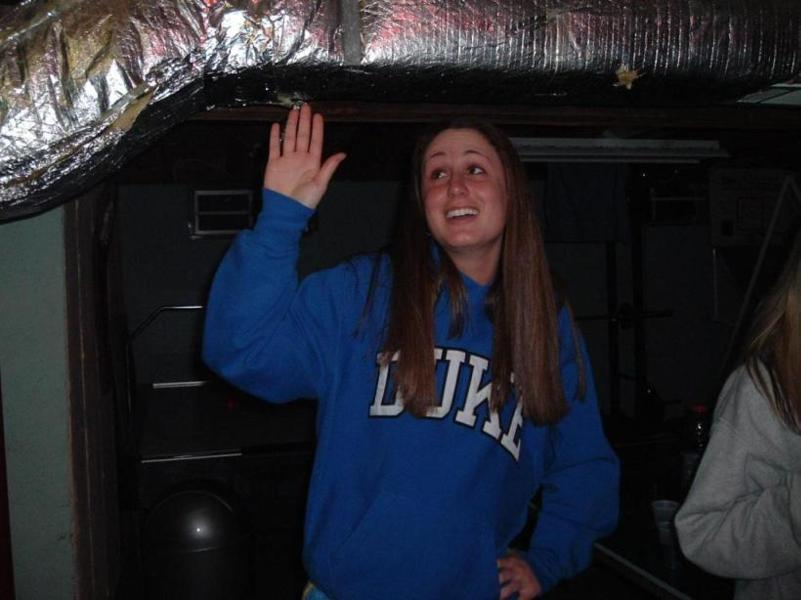person: (215, 104, 614, 600)
